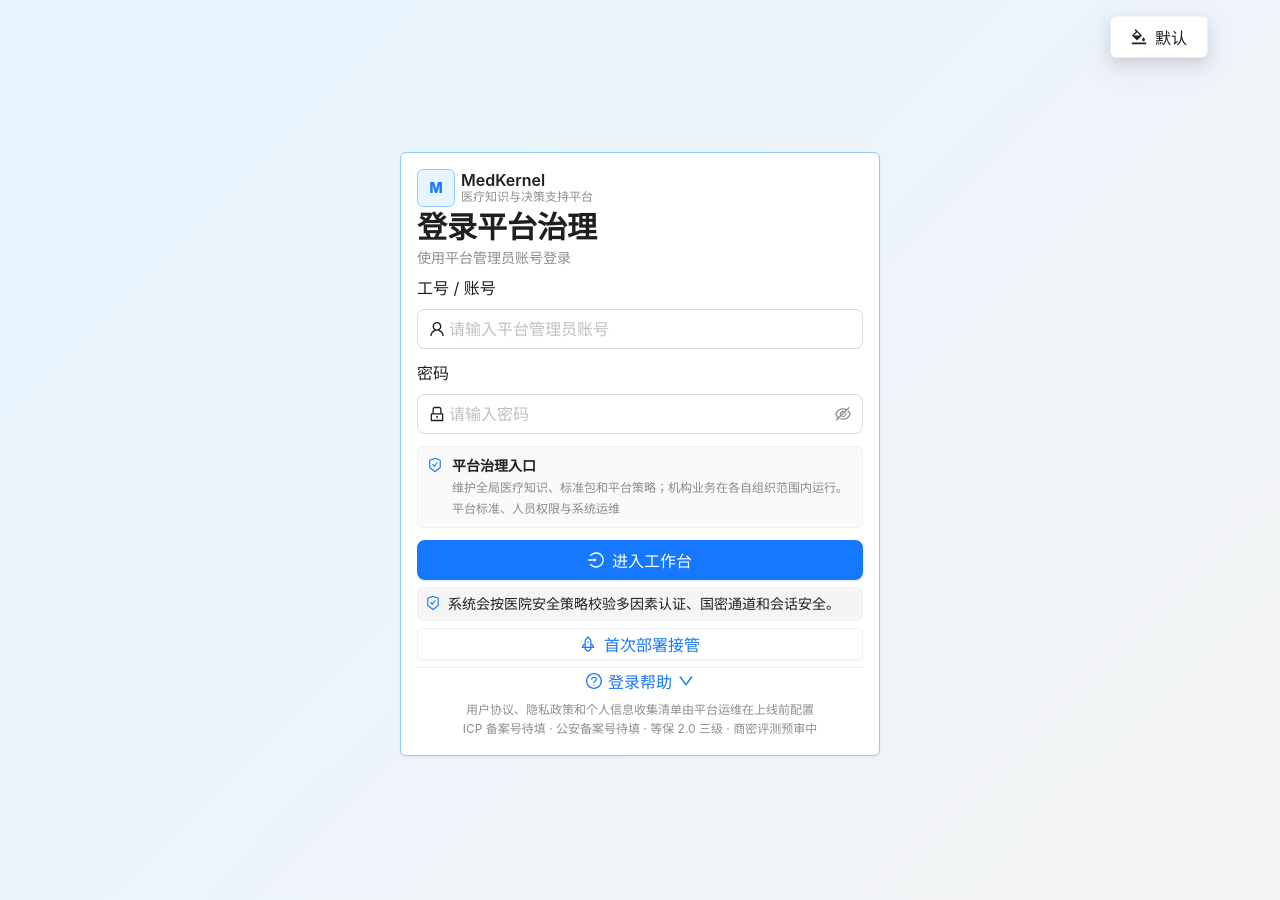
Scenario: Login › 登录失败显示错误且不跳转
Type "x" into the field labelled "工号 / 账号" at (650, 329), box [449,317,851,341]
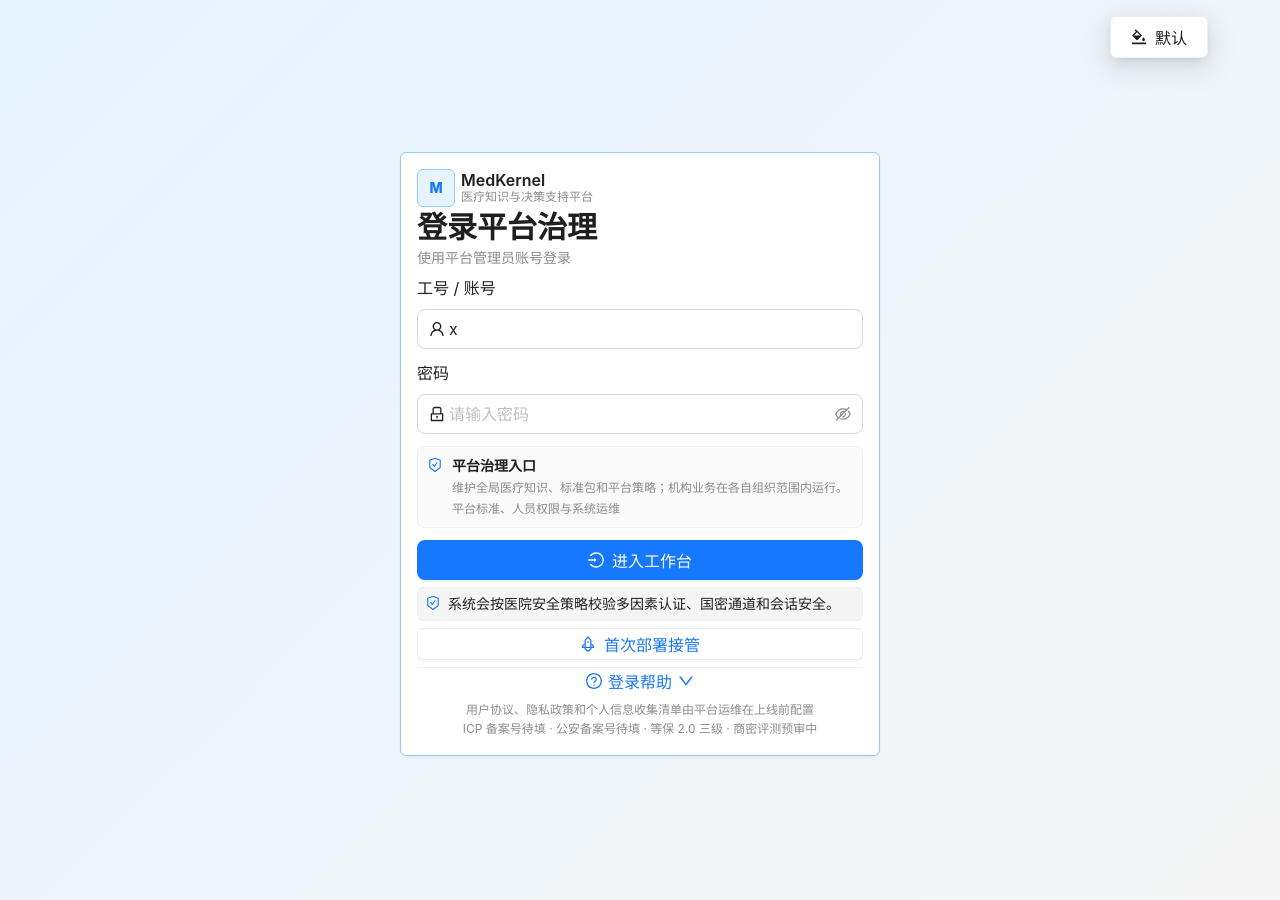
Type "y" into the password field labelled "密码" at (640, 414), box [449,402,831,426]
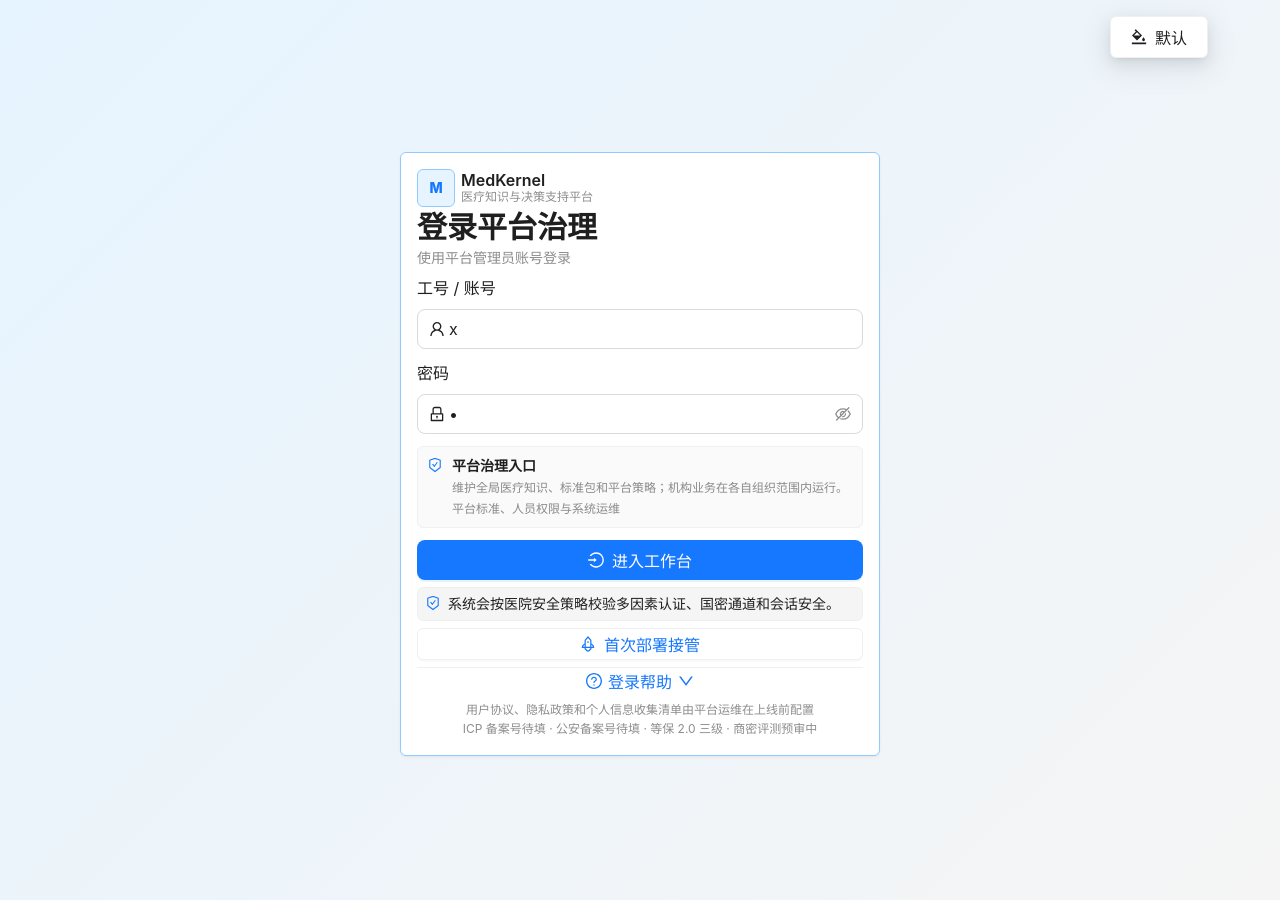
Click the button "进入工作台" at (640, 560), box [417,540,863,580]
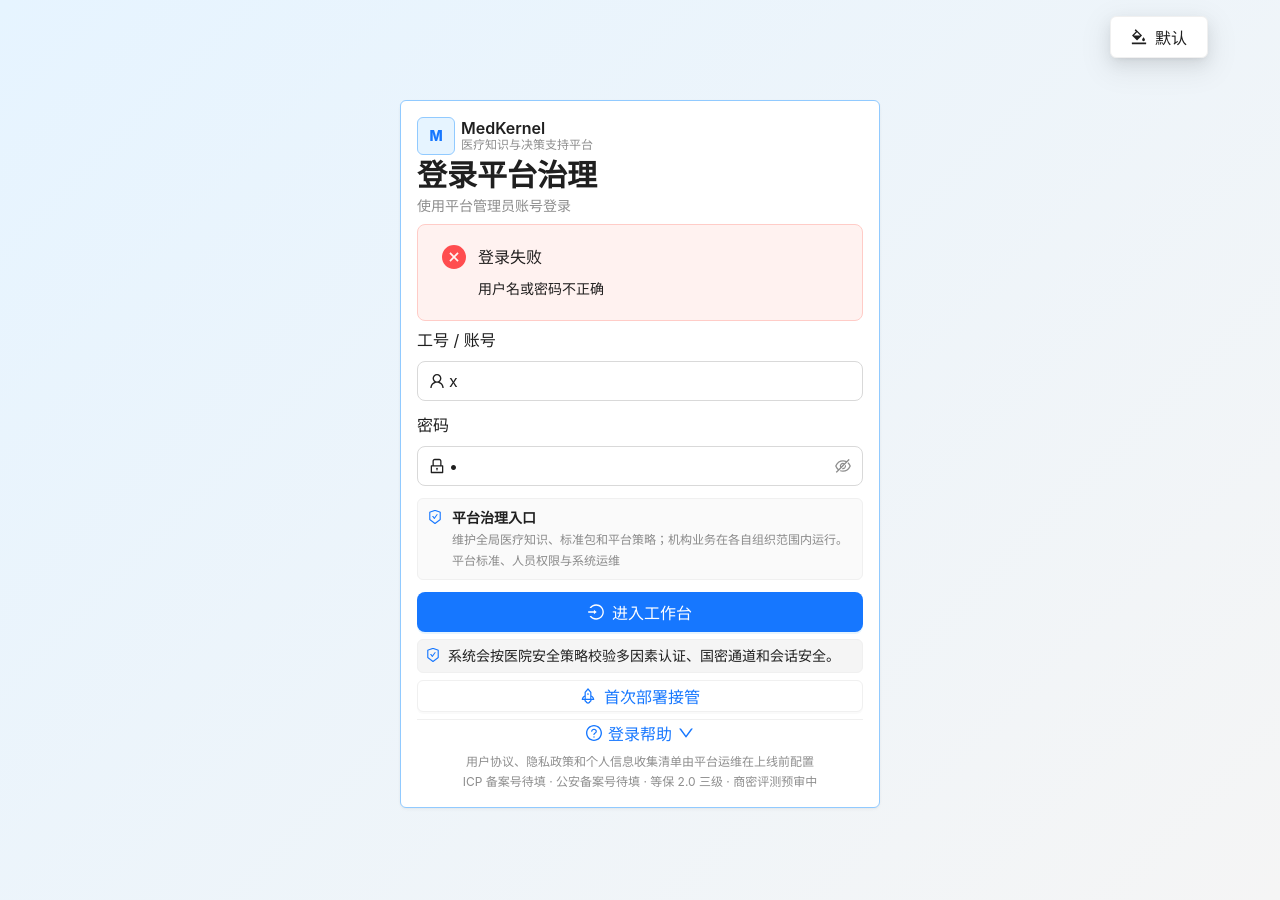
Result: the text "用户名或密码不正确" is shown at [478,280,604,297]
